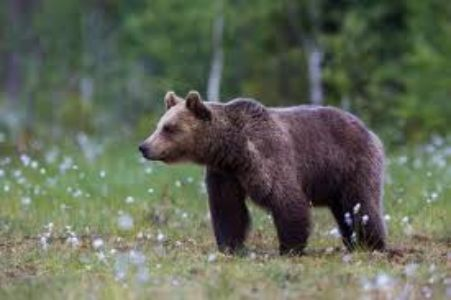bear: (129, 82, 399, 264)
